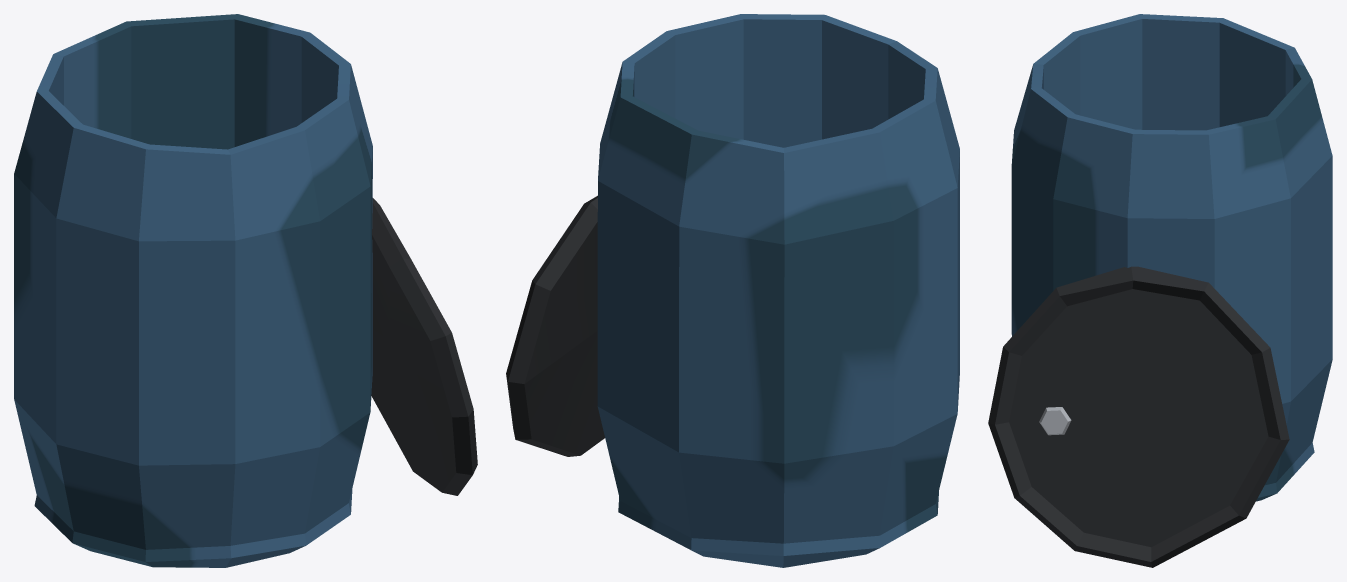
The model's file is SM_Prop_Barrel_Water_Open_01.obj.
3 renders of one model, left to right at view 1: azimuth 30°, elevation 25°; view 2: azimuth 150°, elevation 25°; view 3: azimuth 270°, elevation 25°, orthographic. The views are drawn at different scales.
Parts seen in each view (by area): view 1: SM_Prop_Barrel_Water_Open_01_0; view 2: SM_Prop_Barrel_Water_Open_01_0; view 3: SM_Prop_Barrel_Water_Open_01_0.
Boxes of the visible parts, x1=… form: SM_Prop_Barrel_Water_Open_01_0: x1=14, y1=14, x2=477, y2=567; SM_Prop_Barrel_Water_Open_01_0: x1=506, y1=14, x2=959, y2=567; SM_Prop_Barrel_Water_Open_01_0: x1=988, y1=14, x2=1332, y2=567.
Bounding box in the file's own units: 0.9426 × 1.02 × 0.8067.
1 material, 1 textured.
